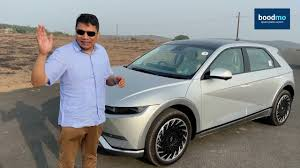Honda Ioniq: (138, 31, 298, 168)
